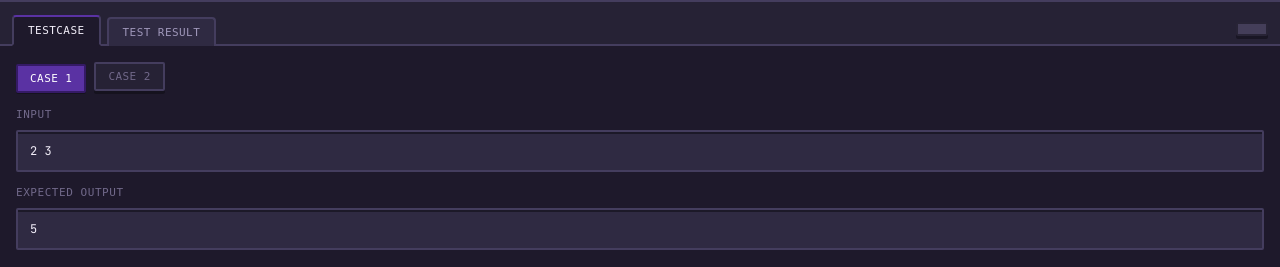
TestcaseConsole component › renders sample testcases tabs and details
Note: Click Case 2
Click the button "Case 2": (130, 76) x1=94 y1=62 x2=165 y2=91
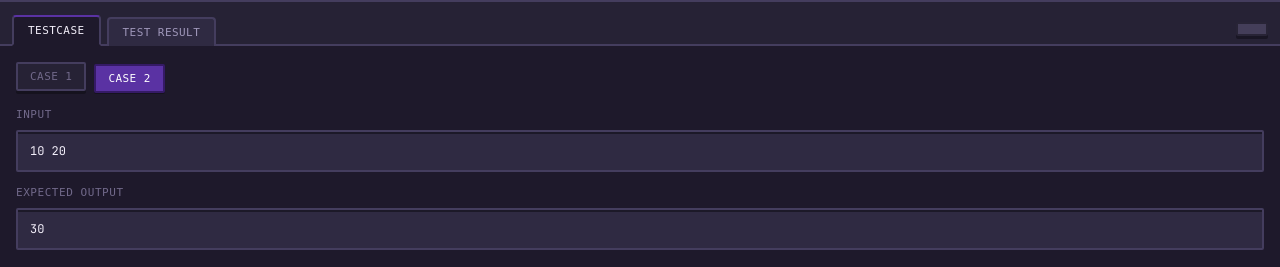
expect the text "10 20" is shown: met, box x1=16 y1=130 x2=1264 y2=172
expect the text "30" is shown: met, box x1=16 y1=208 x2=1264 y2=250
